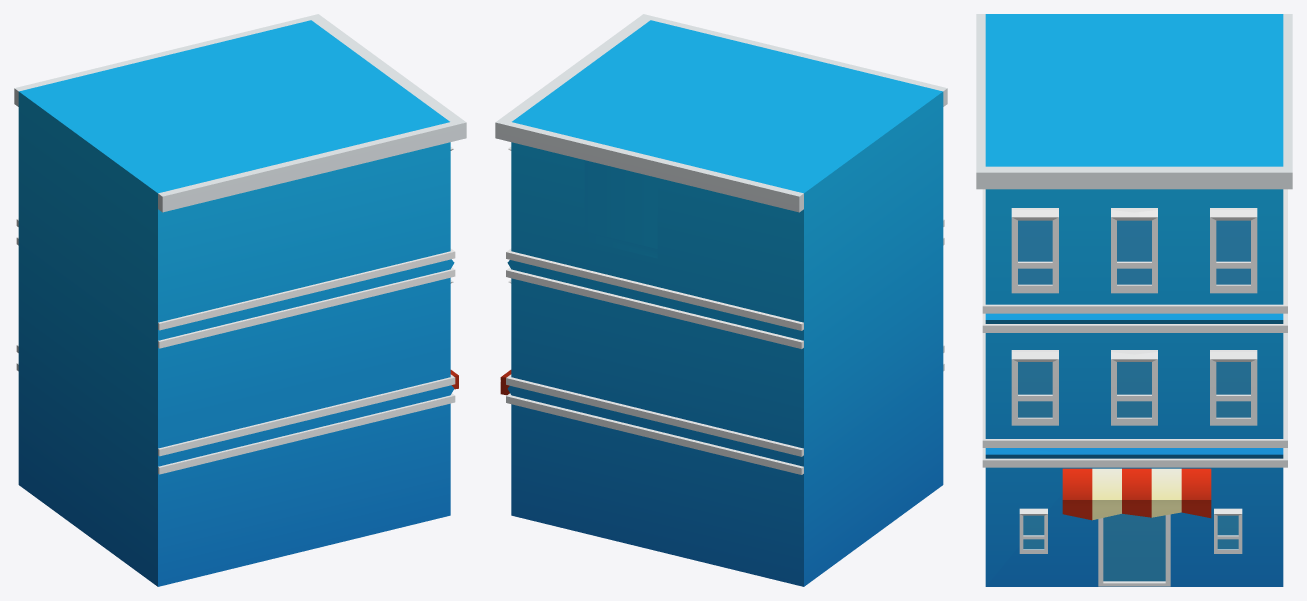
The model's file is PLAYER_BLUE_building.glb.
3 views of the same model, side by side, from view 1: azimuth 30°, elevation 25°; view 2: azimuth 150°, elevation 25°; view 3: azimuth 270°, elevation 25° (orthographic). The views are drawn at different scales.
Parts seen in each view (by area): view 1: Cube.002; view 2: Cube.002; view 3: Cube.002, Cube.003.
Part boxes in pixels (left/top/right/bottom): Cube.002: left=14, top=14, right=466, bottom=586; Cube.002: left=495, top=14, right=947, bottom=586; Cube.002: left=976, top=14, right=1292, bottom=586; Cube.003: left=1062, top=468, right=1211, bottom=520.
Bounding box in the file's own units: 0.5588 × 0.6238 × 0.4257.
Materials: 2 (2 with a texture image).
